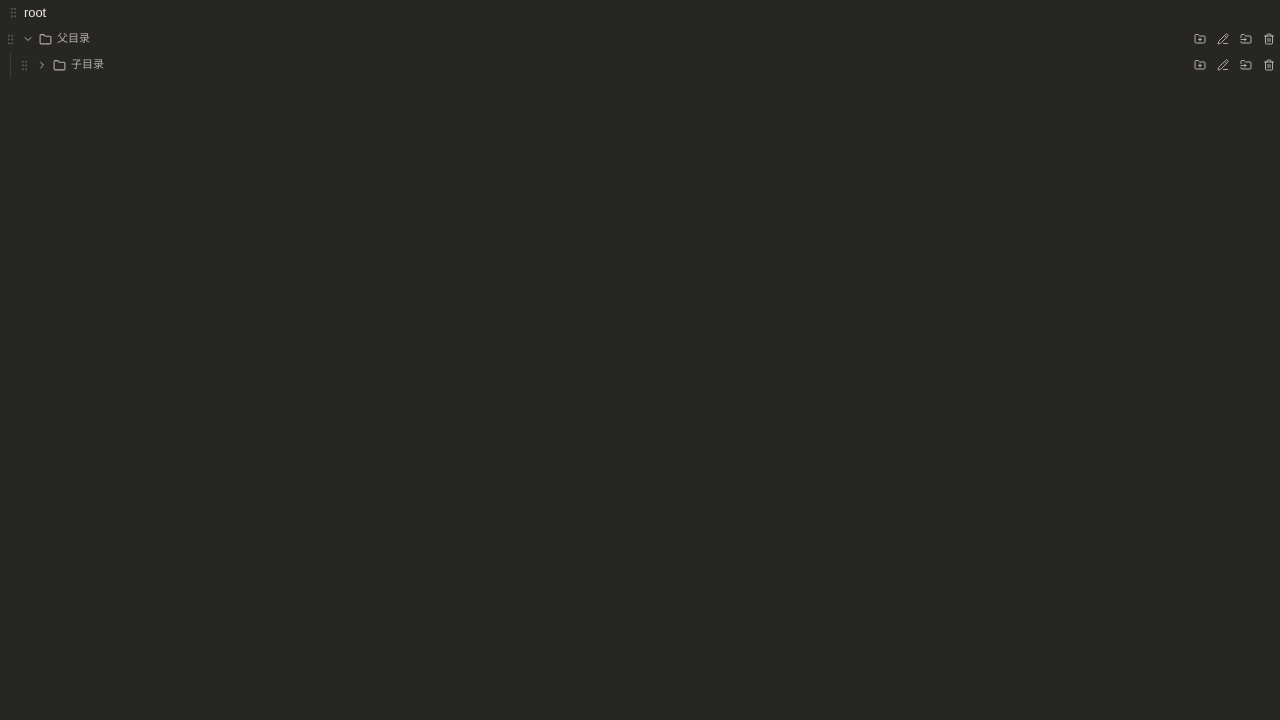
SessionFolderTree organization projection › excludes a folder and descendants from move choices, and explains delete promotion
This screenshot has width=1280, height=720.
Click the button named "移动文件夹 父目录" at (1246, 39), box left=1234, top=26, right=1257, bottom=52
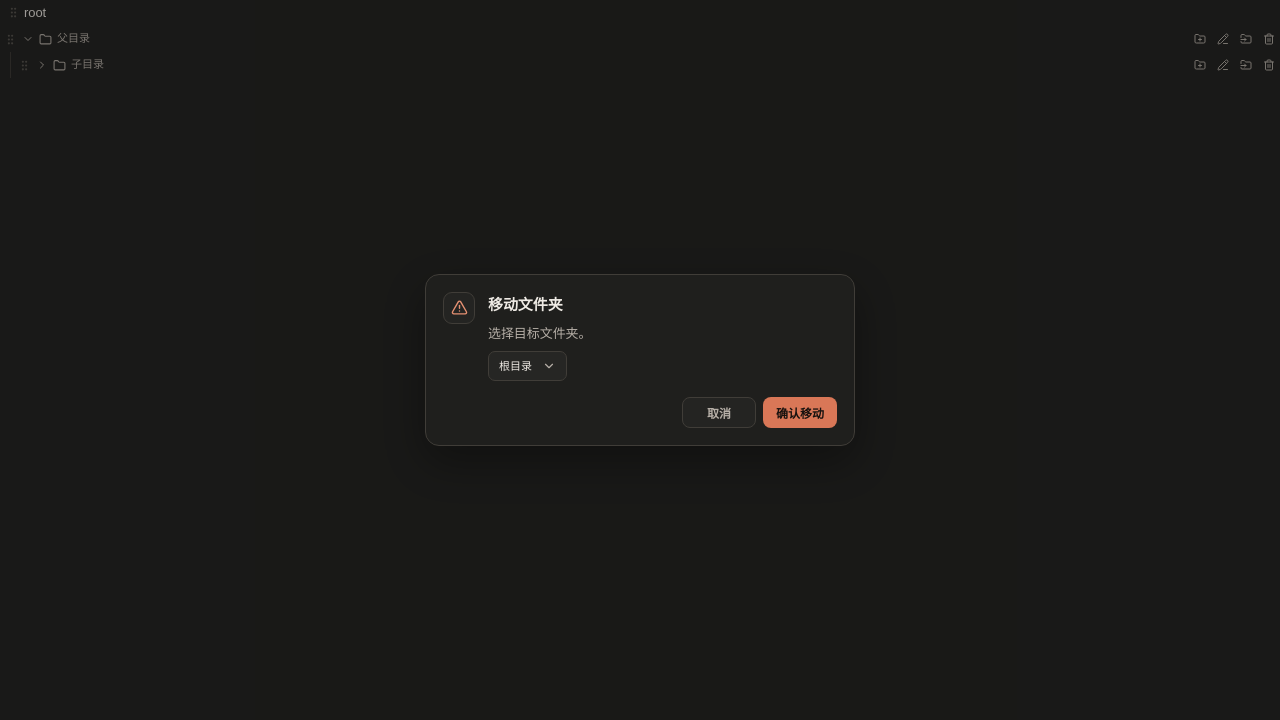
Click the dropdown named "目标文件夹" at (528, 366), box left=488, top=351, right=567, bottom=382
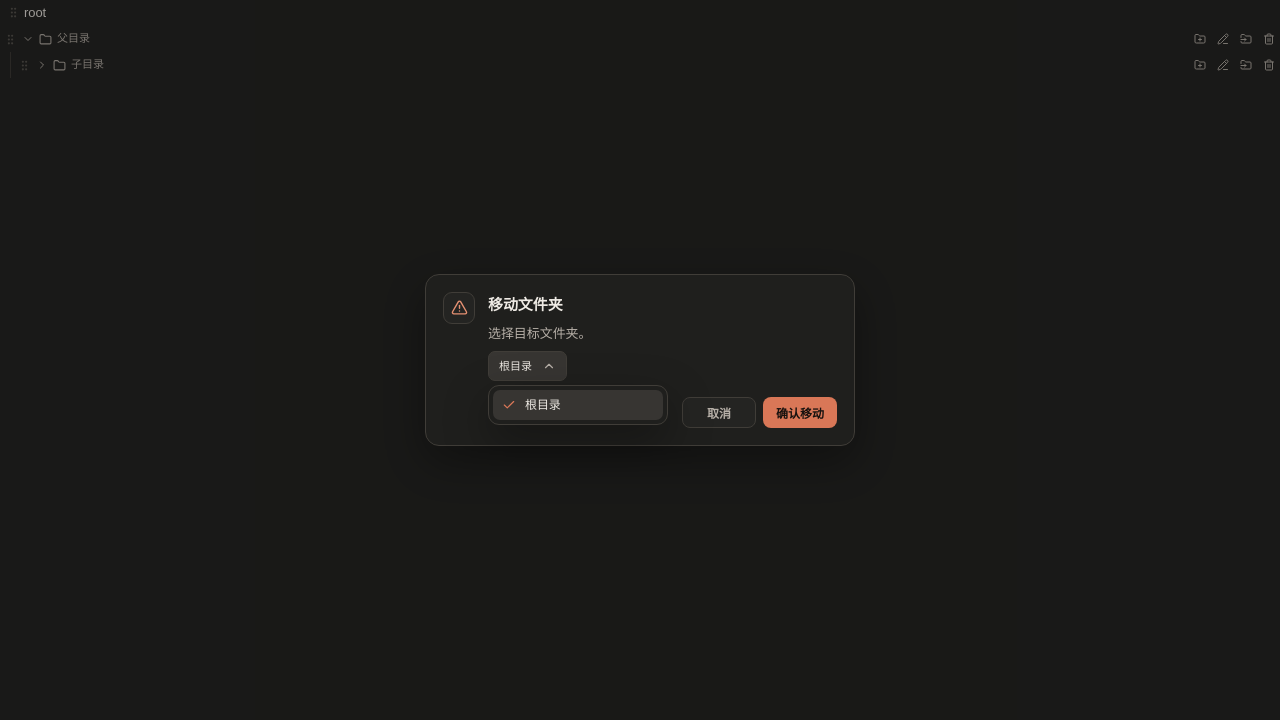
Check: the options read "根目录", in this order, box left=493, top=390, right=663, bottom=420
Press Escape in the dropdown, box left=488, top=351, right=567, bottom=382
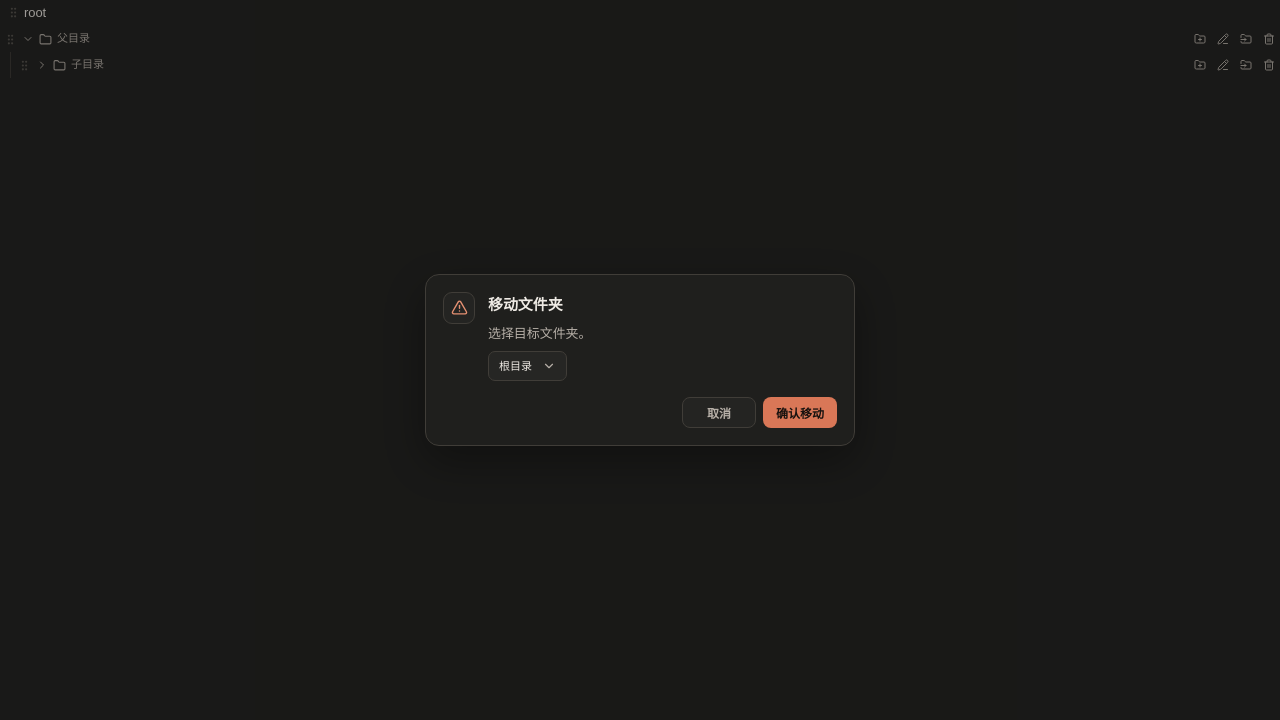
Click the button "取消" at (719, 413), box left=682, top=398, right=756, bottom=428
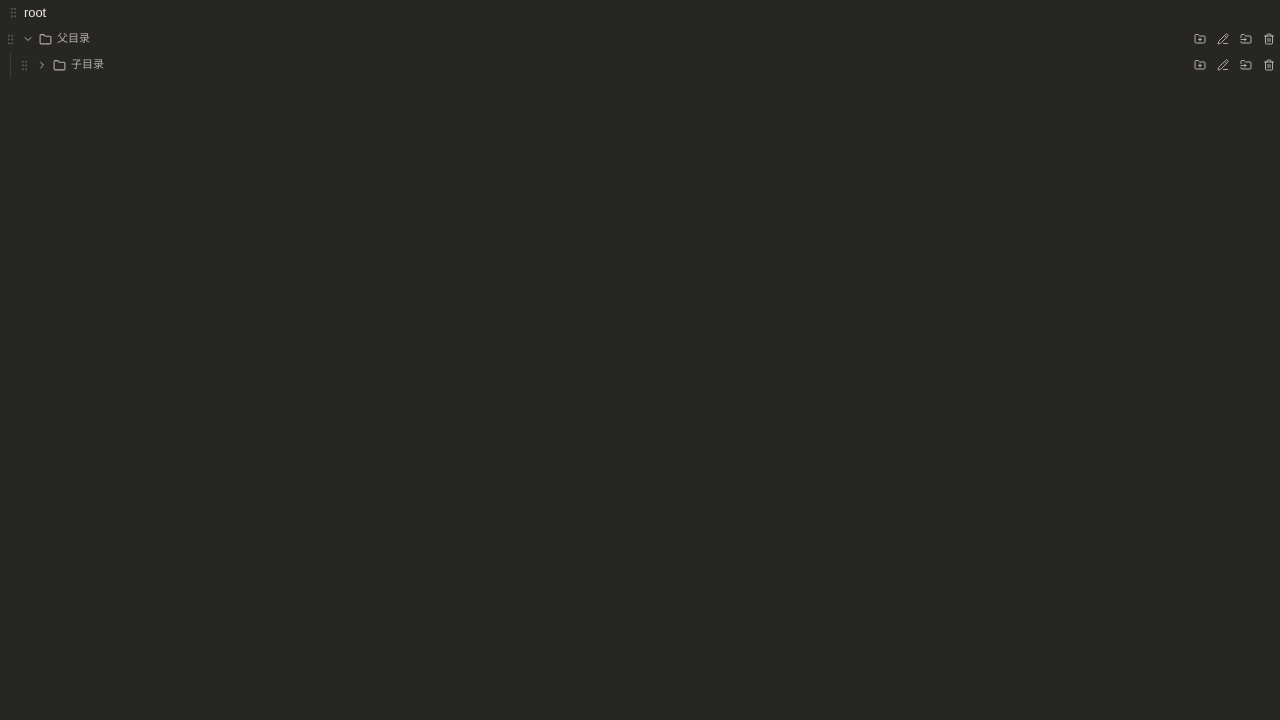
Click the button named "删除文件夹 父目录" at (1268, 39), box left=1257, top=26, right=1279, bottom=52
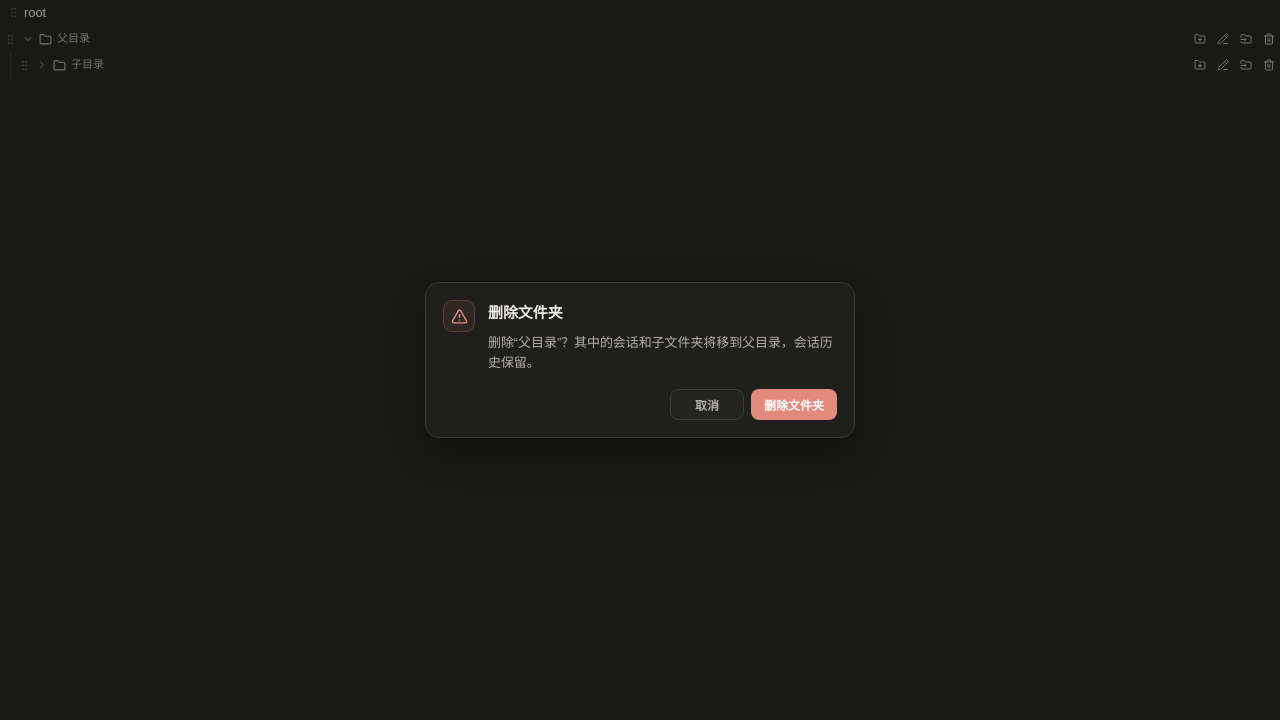
Check: the dialog shows "会话和子文件夹将移到父目录，会话历史保留", box left=488, top=334, right=833, bottom=370
